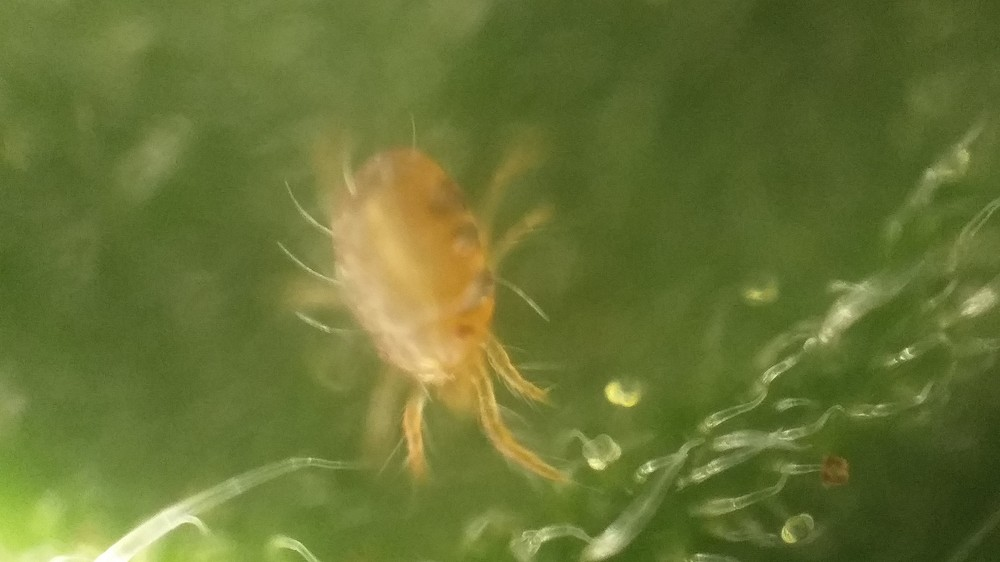Aracnido Rojo: (262, 115, 635, 519)
